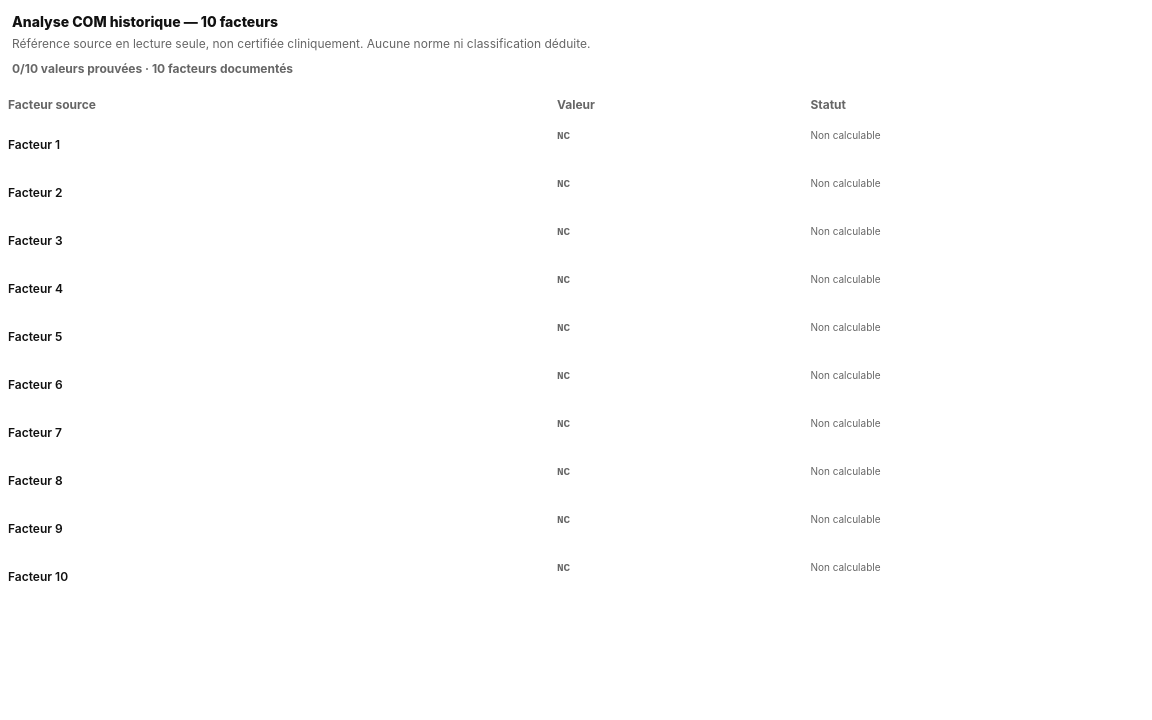
Test: R23-G4 COM compact UI, read-only Focus › never creates Focus for an NC row and clears it on another study
This screenshot has width=1152, height=720.
Click the button "Facteur 1" at (34, 144), box top-left (8, 126), bottom-right (545, 162)
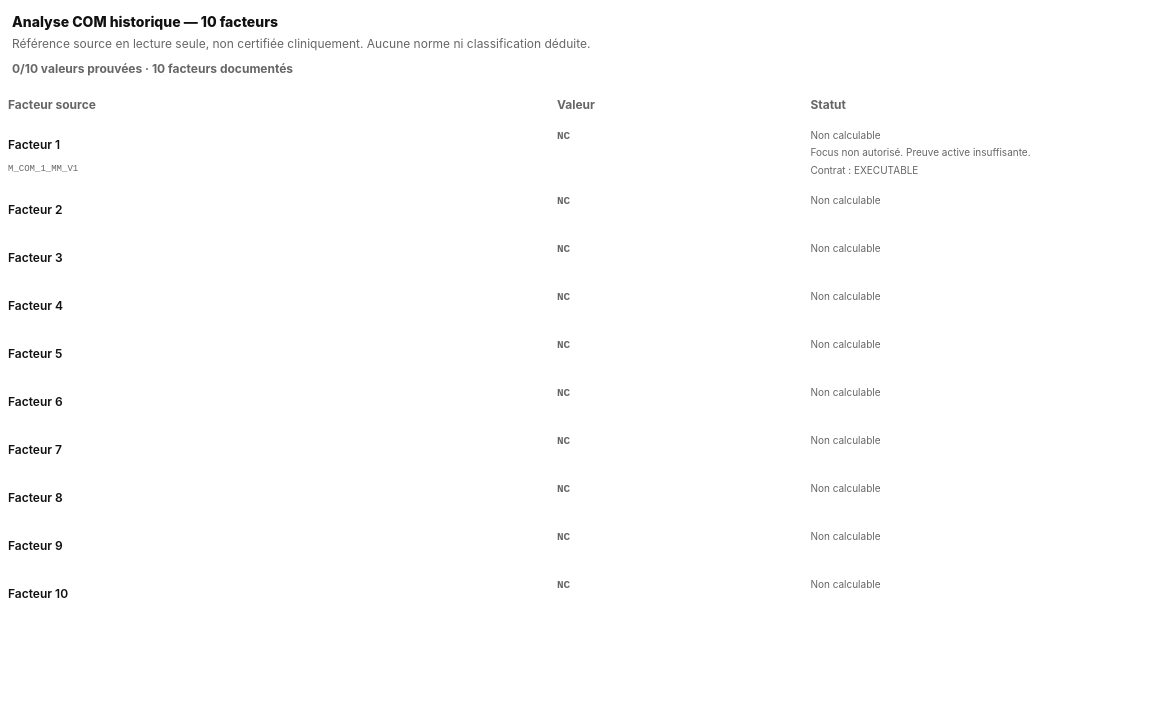
Now the text "Focus non autorisé" is shown, box top-left (810, 146), bottom-right (1031, 158)
